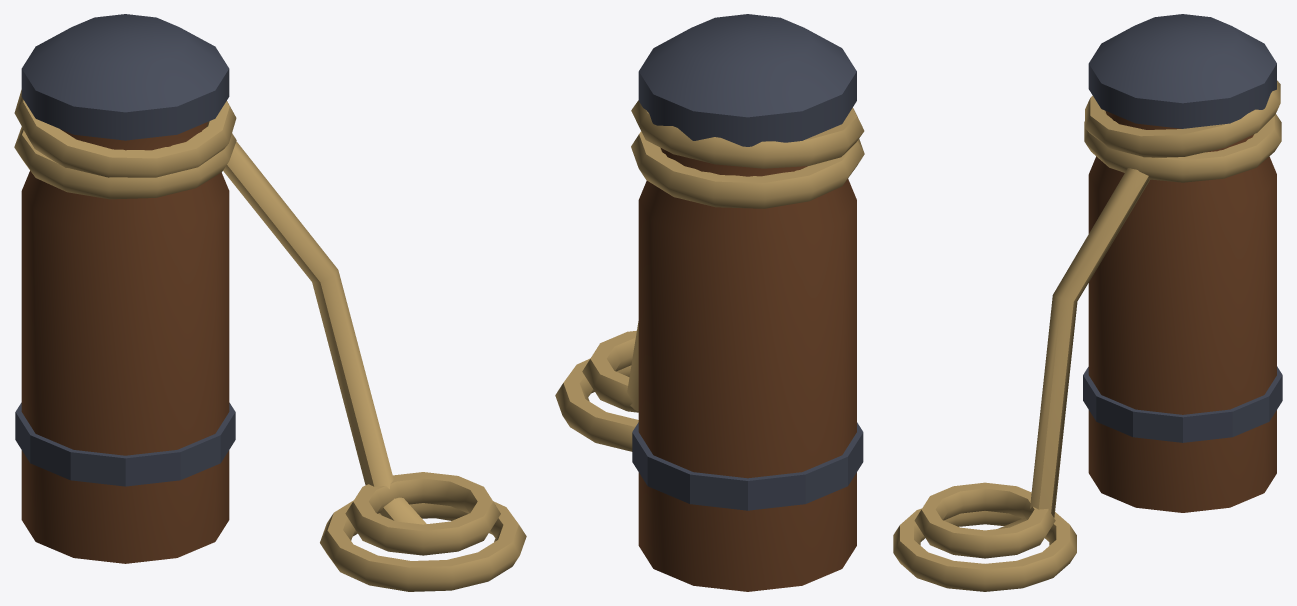
The model's file is pixor-library-pier-post.glb.
3 renders of one model, left to right at view 1: azimuth 30°, elevation 25°; view 2: azimuth 150°, elevation 25°; view 3: azimuth 270°, elevation 25°, orthographic. The views are drawn at different scales.
Parts seen in each view (by area): view 1: Post, Post cap, Post rope coil, Post rope turns, Post rope, Post band; view 2: Post, Post cap, Post rope turns, Post band, Post rope coil, Post rope; view 3: Post, Post cap, Post rope coil, Post rope turns, Post rope, Post band.
Boxes of the visible parts, x1=… form: Post: x1=21, y1=122, x2=229, y2=563; Post cap: x1=21, y1=14, x2=229, y2=140; Post rope coil: x1=320, y1=472, x2=526, y2=591; Post rope turns: x1=14, y1=90, x2=236, y2=199; Post rope: x1=223, y1=141, x2=426, y2=524; Post band: x1=15, y1=402, x2=235, y2=486; Post: x1=638, y1=148, x2=856, y2=591; Post cap: x1=638, y1=14, x2=856, y2=146; Post rope turns: x1=631, y1=100, x2=864, y2=208; Post band: x1=632, y1=422, x2=863, y2=510; Post rope coil: x1=555, y1=330, x2=638, y2=451; Post rope: x1=627, y1=321, x2=638, y2=410; Post: x1=1088, y1=111, x2=1276, y2=512; Post cap: x1=1088, y1=14, x2=1276, y2=128; Post rope coil: x1=893, y1=482, x2=1076, y2=591; Post rope turns: x1=1084, y1=80, x2=1281, y2=182; Post rope: x1=998, y1=168, x2=1149, y2=528; Post band: x1=1083, y1=366, x2=1282, y2=442.
Bounding box in the file's own units: 0.835 × 1.03 × 0.827.
